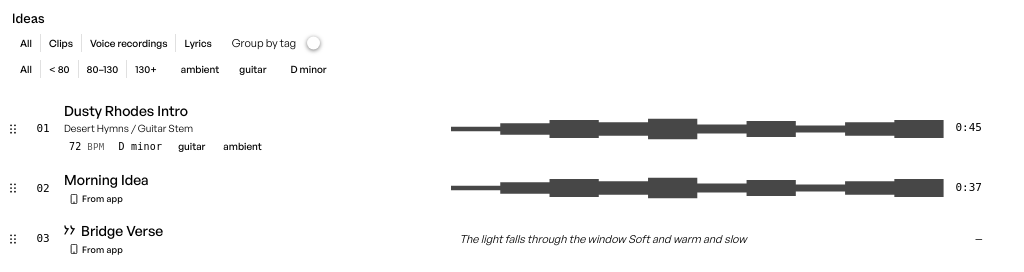
Test: IdeasLibrary — kind segmented › selecting Voice shows only voice ideas
Step 1. Click the radio button labelled "Voice recordings" → coordinates (129, 43), box [82, 34, 176, 52]
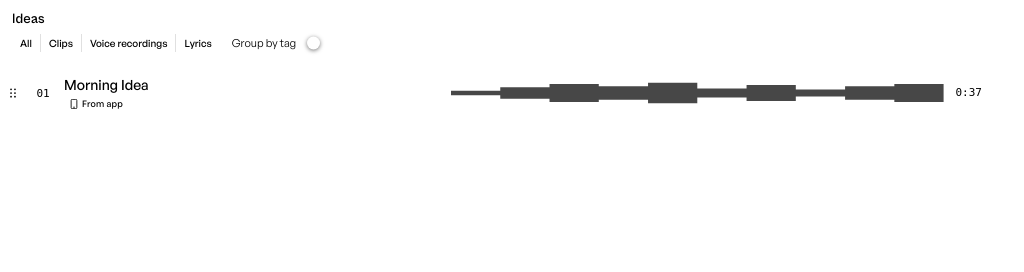
Expected: the text "Morning Idea" is shown, [64, 76, 149, 94]
Now the number of list items with test id "idea-row" is 1, box [0, 68, 1023, 118]
